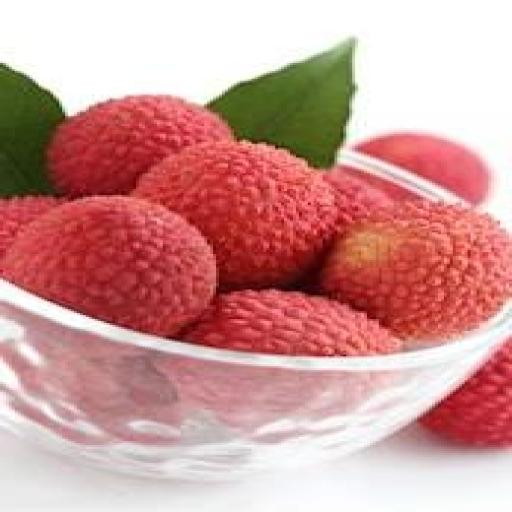lychee: (133, 142, 336, 289), (2, 197, 215, 336), (319, 201, 511, 344), (47, 95, 229, 196), (156, 357, 380, 437), (183, 290, 401, 356), (420, 339, 511, 447), (355, 132, 490, 204), (322, 168, 392, 232), (0, 195, 64, 257)
